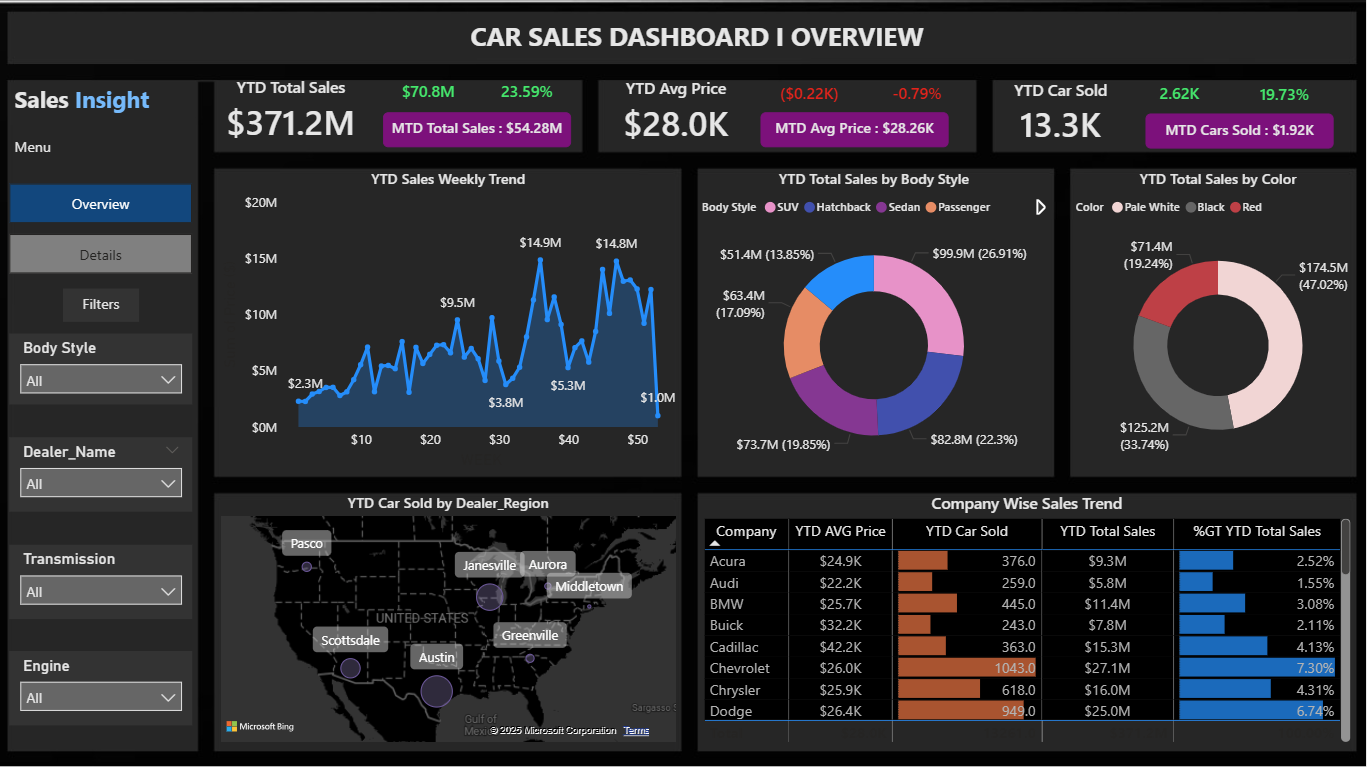

The dashboard page shown, as its layout file describes it:
{"tool":"powerbi","page":{"name":"Overview","canvas":[1280,720],"ordinal":0},"visuals":[{"type":"card","title":"YTD Total Sales","fields":{"Values":["car_data.YTD Total Sales"]},"box":[203.9,74.8,141.2,66.4],"z":0},{"type":"card","fields":{"Values":["car_data.Sales Difference"]},"box":[357.1,74.8,91.7,33.8],"z":1000},{"type":"card","fields":{"Values":["car_data.YoY Sales Growth"]},"box":[448.8,74.8,91.7,33.8],"z":2000},{"type":"card","fields":{"Values":["car_data.MTD KPI"]},"box":[360.7,108.6,176.1,32.6],"z":3000},{"type":"card","title":"YTD Avg Price","fields":{"Values":["car_data.YTD AVG Price"]},"box":[562.2,76,143.6,66.4],"z":4000},{"type":"card","fields":{"Values":["car_data.AVG Price Differnce"]},"box":[713,76,91.7,33.8],"z":5000},{"type":"card","fields":{"Values":["car_data.YoY Avg Price Growth"]},"box":[814.3,76,91.7,33.8],"z":6000},{"type":"card","fields":{"Values":["car_data.MTD Avg Price KPI"]},"box":[713,108.6,176.1,32.6],"z":7000},{"type":"card","title":"YTD Car Sold","fields":{"Values":["car_data.YTD Car Sold"]},"box":[930.2,77.2,129.1,66.4],"z":8000},{"type":"card","fields":{"Values":["car_data.Cars Sold Difference"]},"box":[1059.3,76,91.7,33.8],"z":9000},{"type":"card","fields":{"Values":["car_data.YoY Car Sold Growth"]},"box":[1158.2,77.2,91.7,33.8],"z":10000},{"type":"card","fields":{"Values":["car_data.MTD Cars Sold KPI"]},"box":[1073.7,109.8,176.1,32.6],"z":11000},{"type":"areaChart","title":"YTD Sales Weekly Trend","fields":{"Category":["Calender Table.WEEK"],"Y":["Sum(car_data.Price ($))","car_data.Max Point on Area Chart"]},"box":[203.9,161.7,435.5,285.9],"z":12000},{"type":"donutChart","fields":{"Category":["car_data.Body Style"],"Y":["car_data.YTD Total Sales"]},"box":[653.9,161.7,331.8,285.9],"z":13000},{"type":"donutChart","fields":{"Y":["car_data.YTD Total Sales"],"Category":["car_data.Color"]},"box":[1003.8,161.7,276.3,285.9],"z":14000},{"type":"map","fields":{"Category":["car_data.Dealer_Region"],"Size":["car_data.YTD Car Sold"]},"box":[203.9,464.5,435.5,238.9],"z":15000},{"type":"tableEx","title":"Company Wise Sales Trend","fields":{"Values":["car_data.Company","car_data.YTD AVG Price","car_data.YTD Car Sold","car_data.YTD Total Sales1","car_data.YTD Total Sales"]},"box":[655.1,464.5,615.3,238.9],"z":16000},{"type":"textbox","box":[345,16.9,617.7,42.2],"z":17000},{"type":"slicer","fields":{"Values":["car_data.Body Style"]},"box":[10.9,316.1,171.3,66.4],"z":18000},{"type":"slicer","fields":{"Values":["car_data.Dealer_Name"]},"box":[10.9,412.6,171.3,70],"z":19000},{"type":"slicer","fields":{"Values":["car_data.Transmission"]},"box":[10.9,513.9,171.3,70],"z":20000},{"type":"slicer","fields":{"Values":["car_data.Engine"]},"box":[10.9,612.9,171.3,70],"z":21000},{"type":"textbox","box":[60.3,273.9,71.2,31.4],"z":22000},{"type":"pageNavigator","box":[10.9,174.9,171.3,85.7],"z":23000},{"type":"textbox","box":[10.9,77.2,171.3,50.7],"z":24000},{"type":"textbox","box":[10.9,126.7,56.7,41],"z":25000}]}

Visuals, with their boxes in screenshot pixels (x1, y1, x2, y2), scaled from the page's 1280x720 canvas onto the 1367x767 screenshot:
"YTD Total Sales" card: (218, 80, 369, 150)
card - car_data.Sales Difference: (381, 80, 479, 116)
card - car_data.YoY Sales Growth: (479, 80, 577, 116)
card - car_data.MTD KPI: (385, 116, 573, 150)
"YTD Avg Price" card: (600, 81, 754, 152)
card - car_data.AVG Price Differnce: (761, 81, 859, 117)
card - car_data.YoY Avg Price Growth: (870, 81, 968, 117)
card - car_data.MTD Avg Price KPI: (761, 116, 950, 150)
"YTD Car Sold" card: (993, 82, 1131, 153)
card - car_data.Cars Sold Difference: (1131, 81, 1229, 117)
card - car_data.YoY Car Sold Growth: (1237, 82, 1335, 118)
card - car_data.MTD Cars Sold KPI: (1147, 117, 1335, 152)
"YTD Sales Weekly Trend" areaChart: (218, 172, 683, 477)
donutChart - car_data.Body Style x car_data.YTD Total Sales: (698, 172, 1053, 477)
donutChart - car_data.YTD Total Sales x car_data.Color: (1072, 172, 1366, 477)
map - car_data.Dealer_Region x car_data.YTD Car Sold: (218, 495, 683, 749)
"Company Wise Sales Trend" tableEx: (700, 495, 1357, 749)
textbox: (368, 18, 1028, 63)
slicer - car_data.Body Style: (12, 337, 195, 407)
slicer - car_data.Dealer_Name: (12, 440, 195, 514)
slicer - car_data.Transmission: (12, 547, 195, 622)
slicer - car_data.Engine: (12, 653, 195, 727)
textbox: (64, 292, 140, 325)
pageNavigator: (12, 186, 195, 278)
textbox: (12, 82, 195, 136)
textbox: (12, 135, 72, 179)
